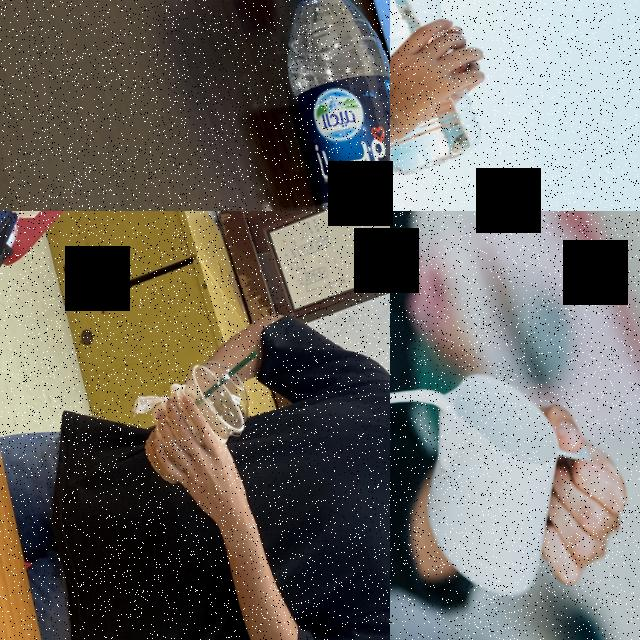bottle: (183, 0, 390, 211), (390, 0, 497, 182)
cup: (120, 350, 268, 490)
